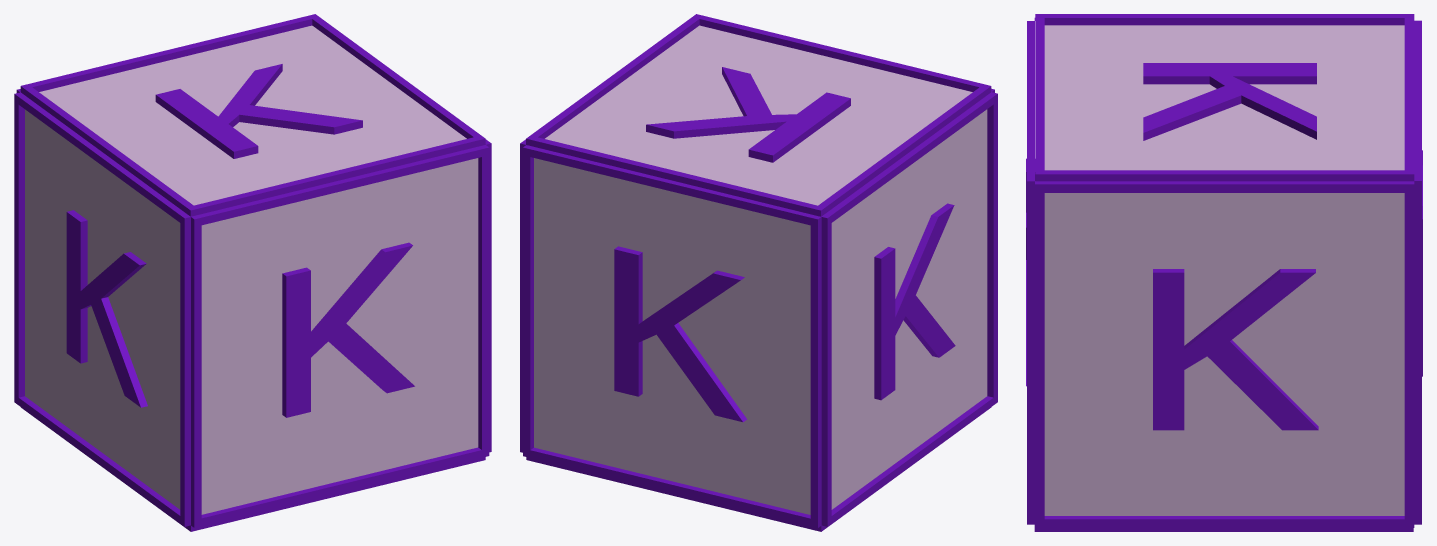
The model's file is 000-start.glb.
3 views of the same model, side by side, from view 1: azimuth 30°, elevation 25°; view 2: azimuth 150°, elevation 25°; view 3: azimuth 270°, elevation 25° (orthographic). The views are drawn at different scales.
Visible parts, largest first — view 1: EVT.Info; view 2: EVT.Info; view 3: EVT.Info.
Boxes of the visible parts, x1=… form: EVT.Info: x1=14, y1=14, x2=491, y2=531; EVT.Info: x1=520, y1=14, x2=997, y2=531; EVT.Info: x1=1026, y1=14, x2=1422, y2=531.
Size of what is drawn, in the model's own units: 0.4 by 0.4 by 0.4.
